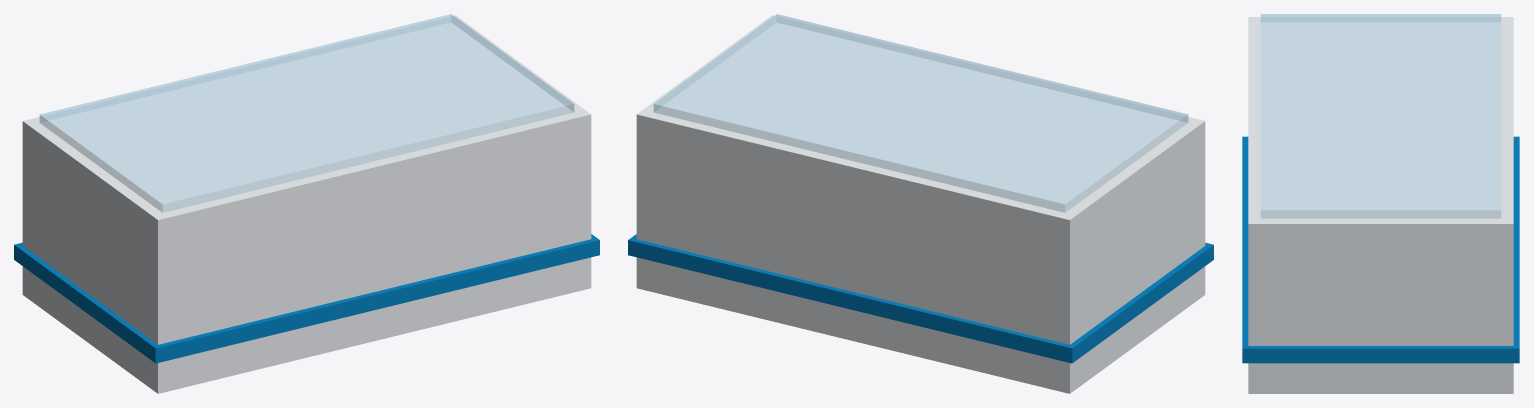
File: frozen-food.glb
3 renders of one model, left to right at view 1: azimuth 30°, elevation 25°; view 2: azimuth 150°, elevation 25°; view 3: azimuth 270°, elevation 25°, orthographic. The views are drawn at different scales.
Parts seen in each view (by area): view 1: Freezer_Body, Sliding_Glass_Lid, Bumper_Rail; view 2: Freezer_Body, Sliding_Glass_Lid, Bumper_Rail; view 3: Freezer_Body, Sliding_Glass_Lid, Bumper_Rail.
Boxes of the visible parts, x1,y1,x2,y2 form: Freezer_Body: (22, 15, 591, 393); Sliding_Glass_Lid: (39, 14, 574, 212); Bumper_Rail: (14, 234, 599, 363); Freezer_Body: (636, 15, 1205, 393); Sliding_Glass_Lid: (653, 14, 1188, 212); Bumper_Rail: (628, 234, 1213, 363); Freezer_Body: (1248, 17, 1513, 393); Sliding_Glass_Lid: (1260, 14, 1501, 218); Bumper_Rail: (1242, 136, 1519, 363).
Bounding box in the file's own units: 2.46 × 0.965 × 1.36.
